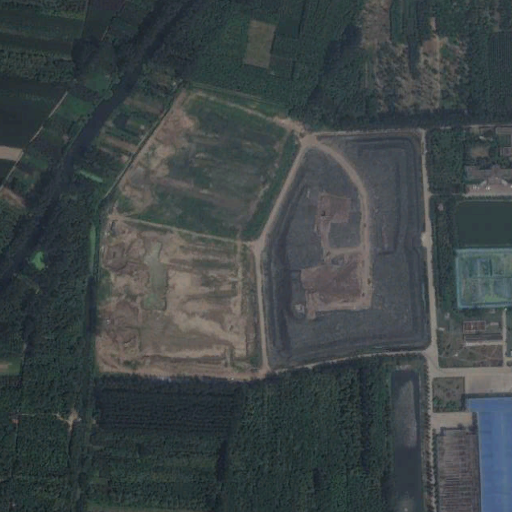lf: (264, 128, 433, 373)
